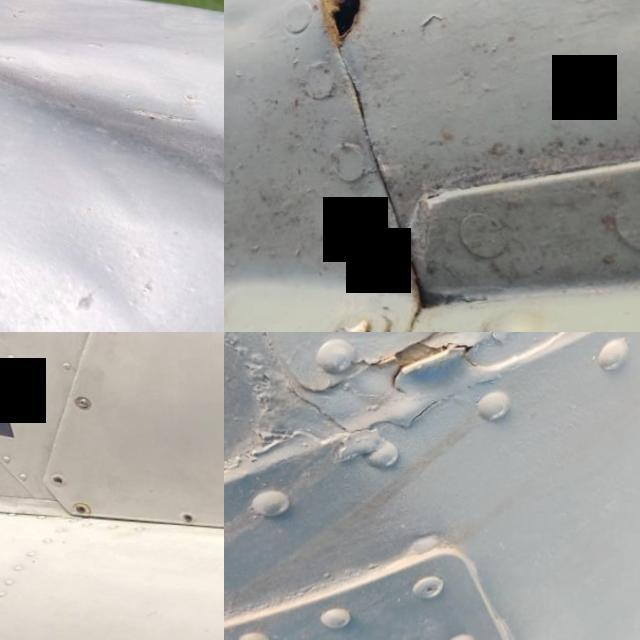Crack: (337, 332, 489, 395), (293, 0, 384, 66)
Dent: (0, 0, 224, 327), (43, 220, 189, 332), (0, 258, 82, 332)
Missing_Fastener: (46, 469, 68, 486), (177, 506, 194, 520), (73, 498, 88, 510)
